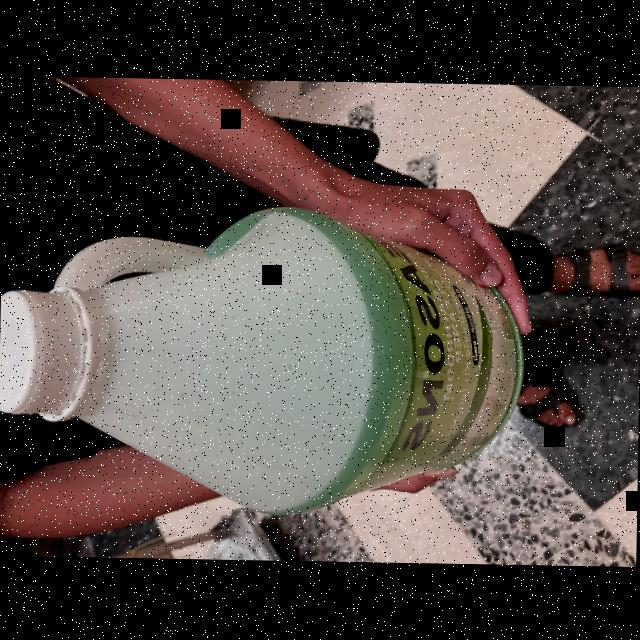chemical_plastic_gallon: (0, 191, 528, 523)
